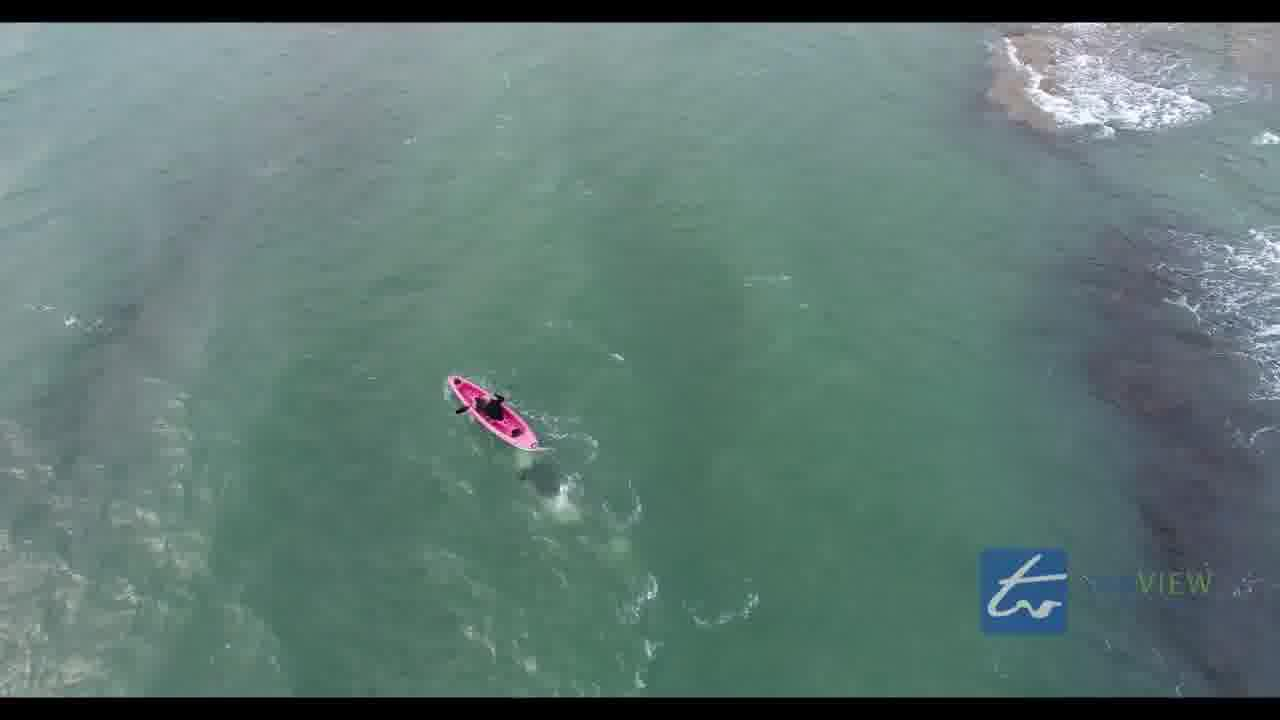human: (476, 388, 508, 418)
